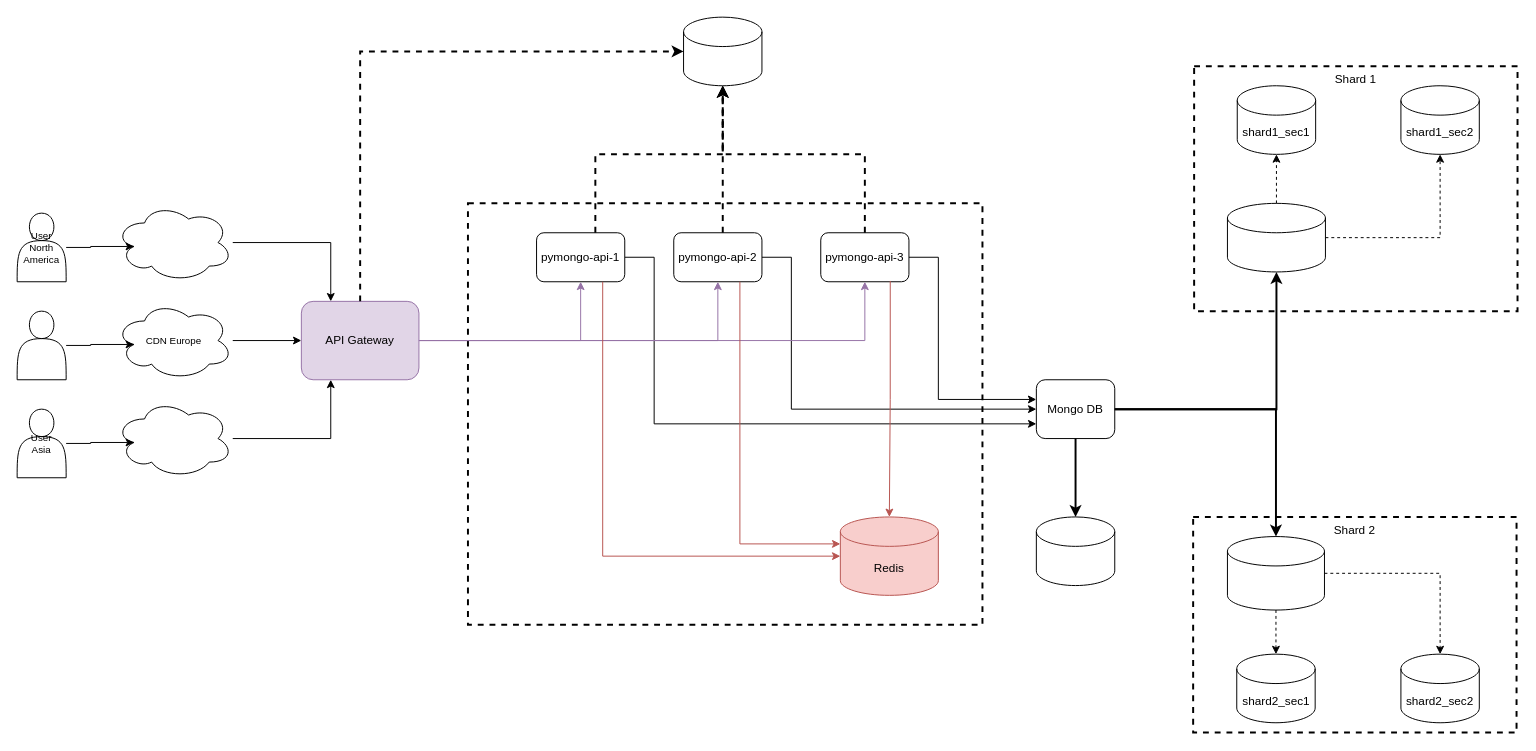
This 1536x751 diagram has some shape labels left out. The centre of each missing label's shape, as x and y in pixels:
"CDN Asia" goes at point 173,438.
"CDN North America" goes at point 173,242.
"configSrv" goes at point 1075,551.
"Consul" goes at point 722,51.
"shard1_primary" goes at point 1275,237.
"shard2_primary" goes at point 1275,573.
"User Europe" goes at point 41,345.
